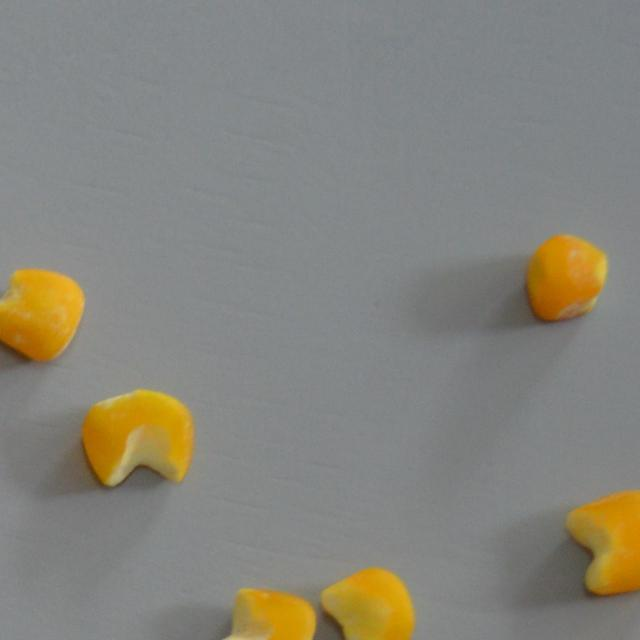no_canjicado: (82, 387, 192, 487), (0, 266, 85, 362), (564, 491, 640, 596), (320, 566, 419, 640), (204, 586, 318, 640)
pelicula: (524, 232, 607, 321)
